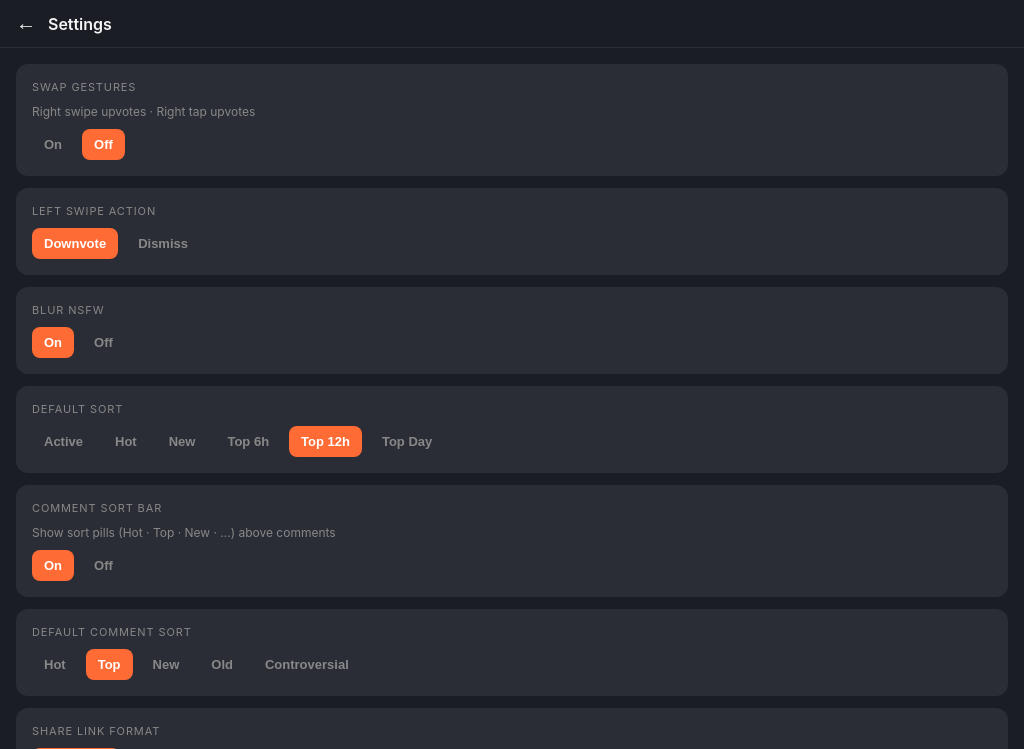
Scenario: SettingsPage › non-upvote swipe card label changes to "Right Swipe Action" when swapGestures is on
Click the button "On" below "Right swipe upvotes · Right tap upvotes" at (53, 144), box [32, 129, 74, 160]
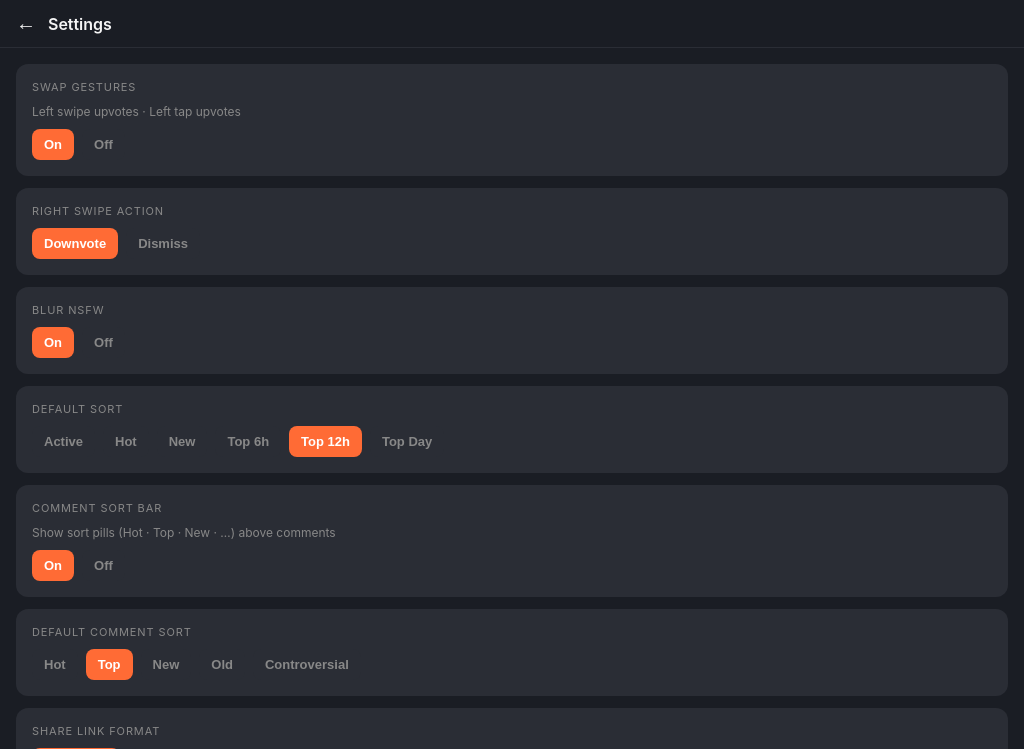
Result: the text "Right Swipe Action" is shown at [32, 204, 164, 218]
